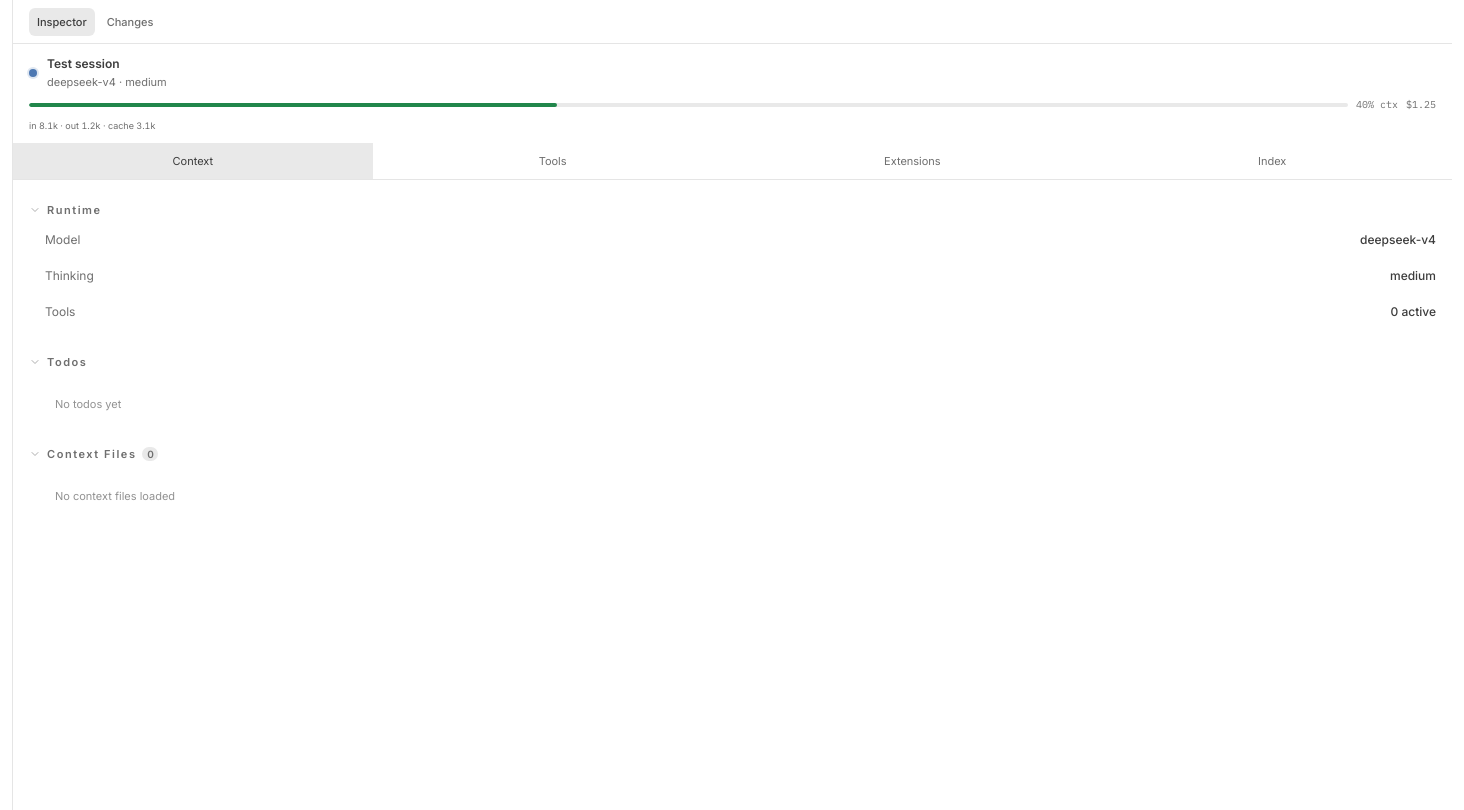
Test: ResourceInspector › extensions tab shows compact package summary and on/off status
Click the button "Extensions" at (912,161), box [732, 143, 1092, 179]
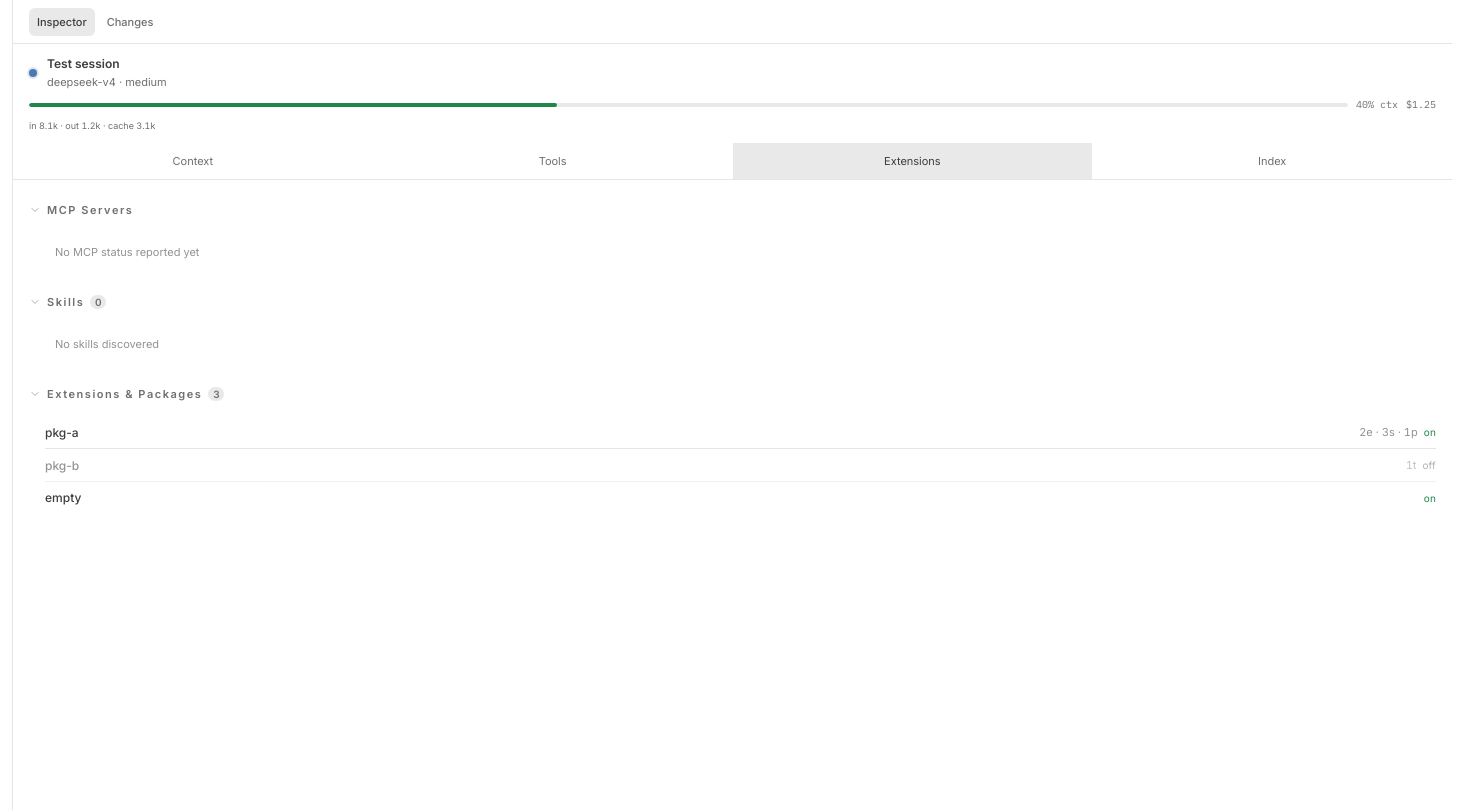
Result: the text "pkg-a" is shown at [45, 424, 79, 440]
Result: the text "pkg-b" is shown at [45, 458, 79, 472]
Result: the text "empty" is shown at [45, 490, 81, 505]
